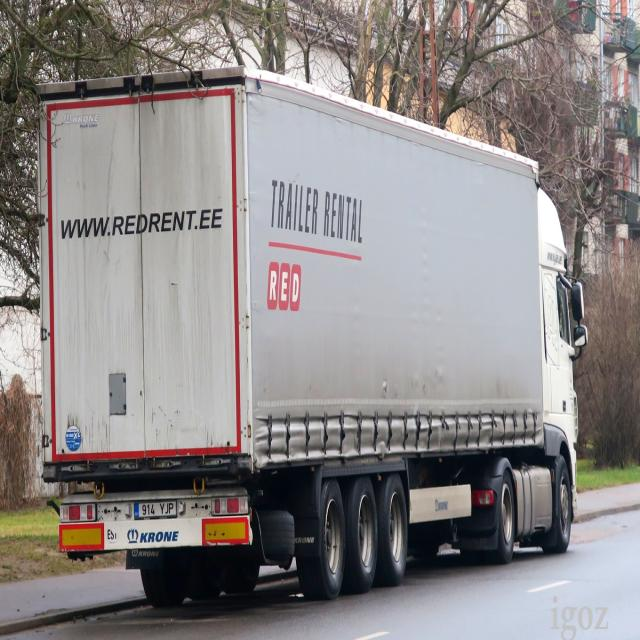License-plate: (133, 502, 179, 519)
